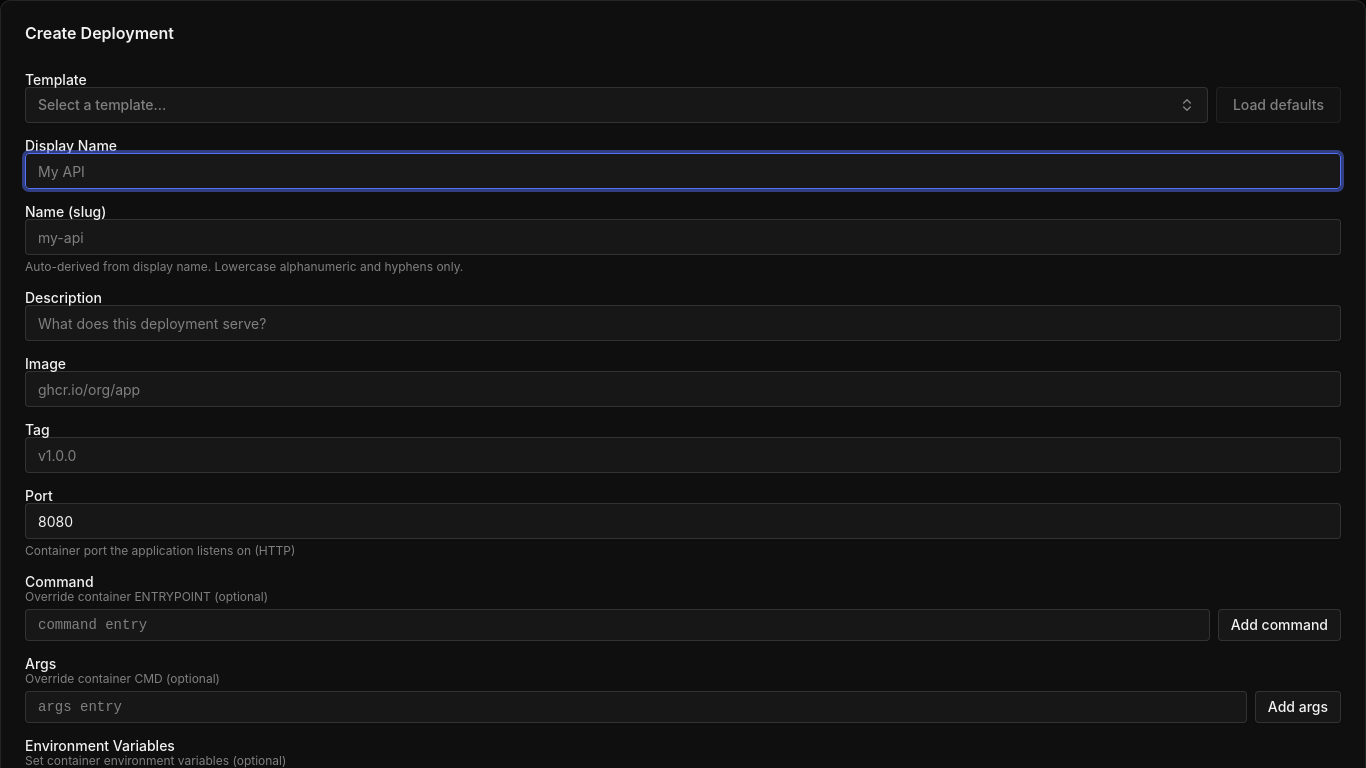
CreateDeploymentPage › auto-derives slug from display name
The width and height of the screenshot is (1366, 768).
In the field labelled "Display Name": coordinates (683, 171) [25,153,1341,189], type "My Web App"
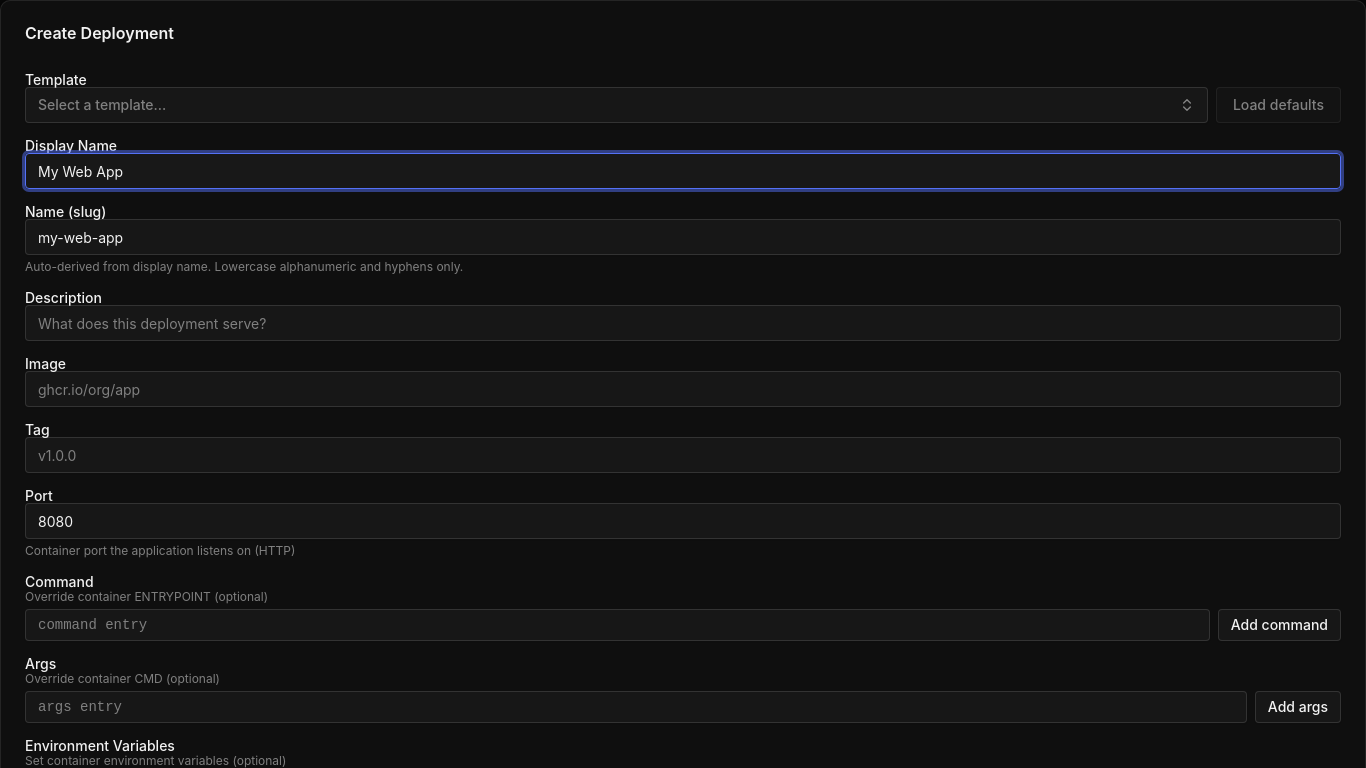
Expected: the field named "name slug" holds "my-web-app", [25,219,1341,255]
